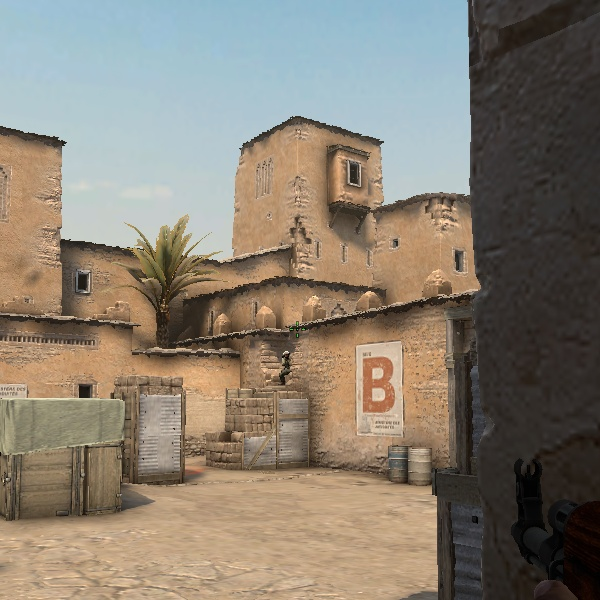ct_body: (279, 351, 294, 386)
ct_head: (282, 351, 290, 359)
